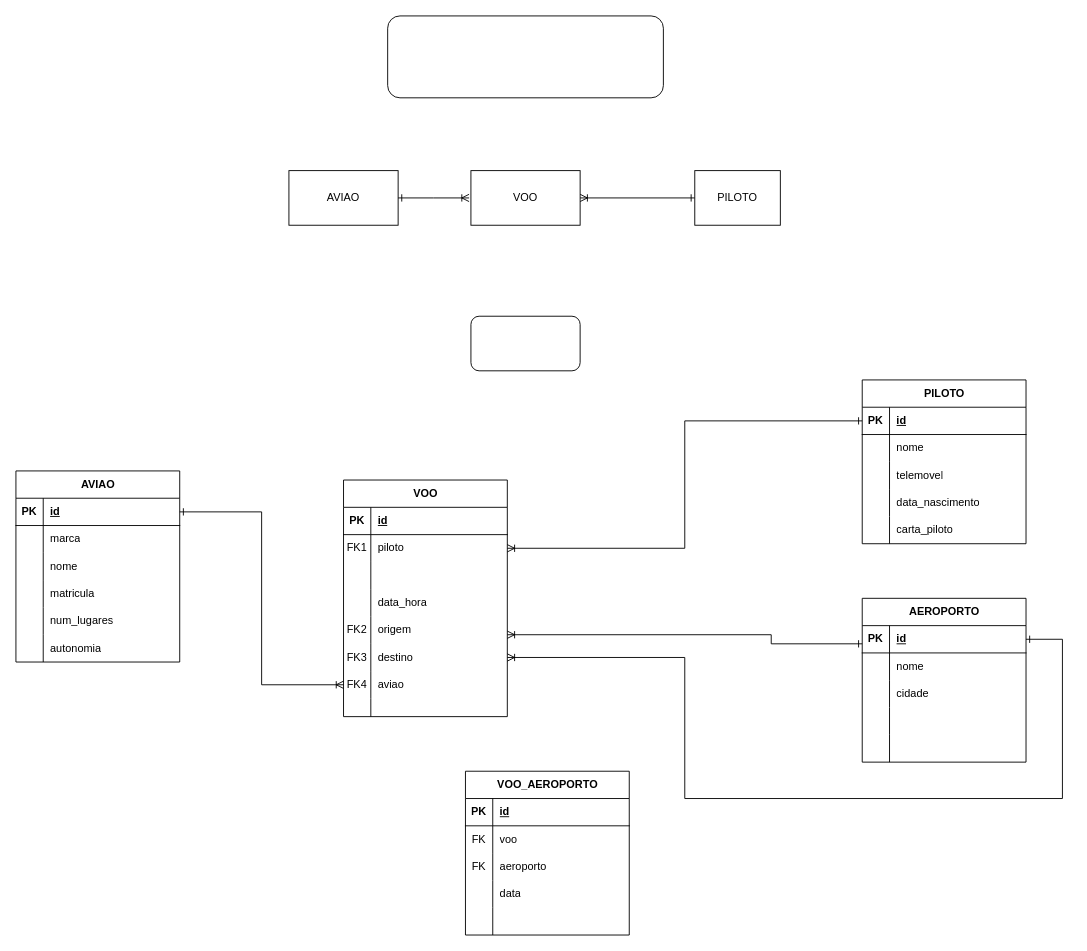
This 1087x951 diagram has some shape labels left out. The shapes that lost their labels are listed below. From the top down, each one's centre as x and y in pixels, then its label:
At point 525,56: "Exercicio 04 Modelo E-R Transportadora de Avioes".
At point 525,343: "Modelo de dados".
